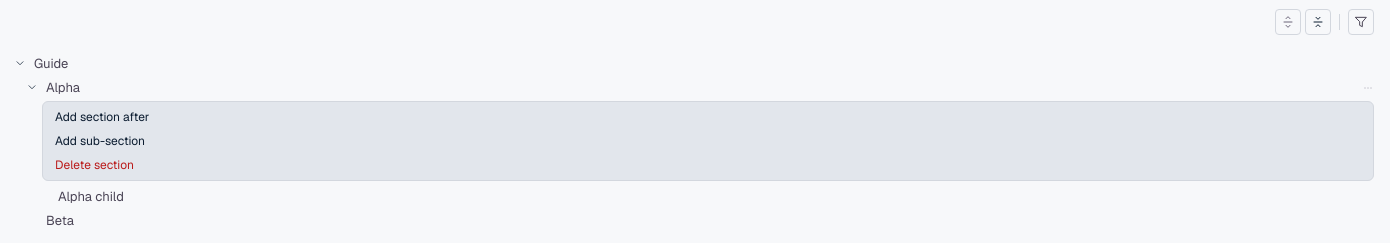
Scenario: 章节结构菜单：动作与提示 › 确认可退：Cancel 回到三动作，不发生写回
Earlier steps of the test are not shown.
Click the button "Delete section".
click(94, 165)  # box x1=47 y1=154 x2=1369 y2=176
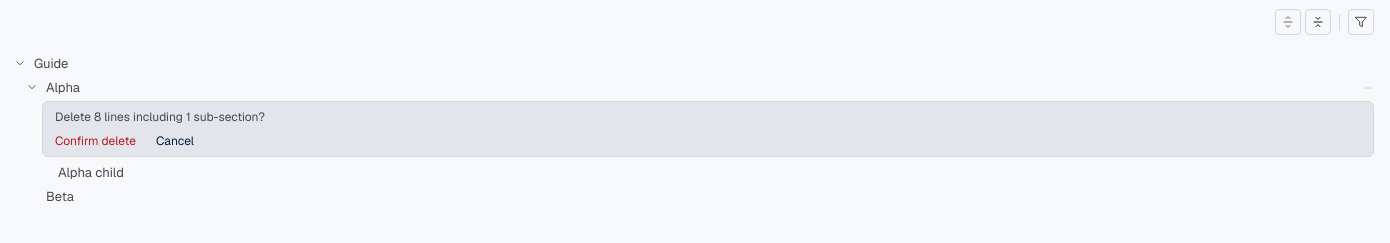
Click the button "Cancel".
click(175, 141)  # box x1=148 y1=130 x2=202 y2=152
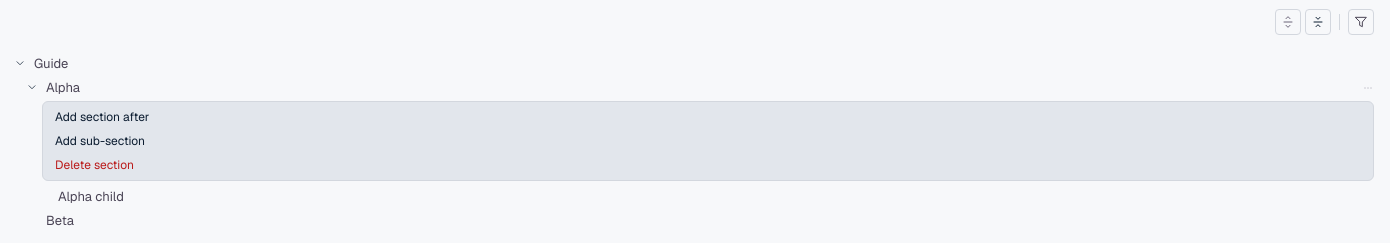
Expected: the button "Add section after" is shown, x1=47 y1=106 x2=1369 y2=128
